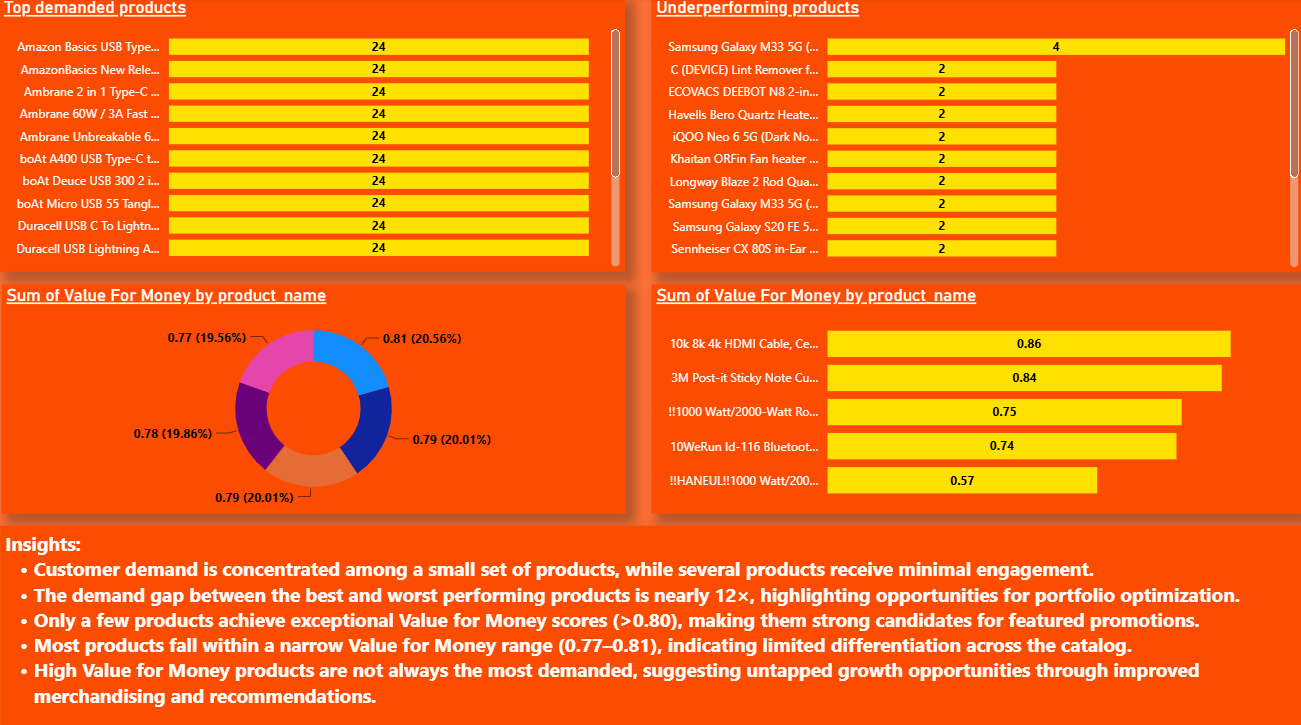

This screenshot's page, from the dashboard's own definition file:
{"tool":"powerbi","page":{"name":"Product performance","canvas":[1280,720],"ordinal":2},"visuals":[{"type":"barChart","title":"Top demanded products","fields":{"Category":["products.product_name"],"Y":["CountNonNull(reviews_fact.user_id)"]},"box":[0,0,614.3,269.7],"z":0},{"type":"barChart","title":"Underperforming products","fields":{"Category":["products.product_name"],"Y":["CountNonNull(reviews_fact.user_id)"]},"box":[640.2,0,640.2,270.4],"z":1000},{"type":"donutChart","fields":{"Category":["products.product_name"],"Y":["Sum(products.Value For Money)"]},"box":[2.6,282.6,613,224.6],"z":2000},{"type":"barChart","fields":{"Category":["products.product_name"],"Y":["Sum(products.Value For Money)"]},"box":[640.1,282.6,640.1,224.6],"z":3000},{"type":"textbox","box":[1.3,518.8,1279,201.3],"z":4000}]}

Visuals, with their boxes in screenshot pixels (x1, y1, x2, y2), scaled from the page's 1280x720 canvas onto the 1301x725 screenshot:
"Top demanded products" barChart: 0/0/624/272
"Underperforming products" barChart: 651/0/1300/272
donutChart - products.product_name x Sum(products.Value For Money): 3/285/626/511
barChart - products.product_name x Sum(products.Value For Money): 651/285/1300/511
textbox: 1/522/1300/724
